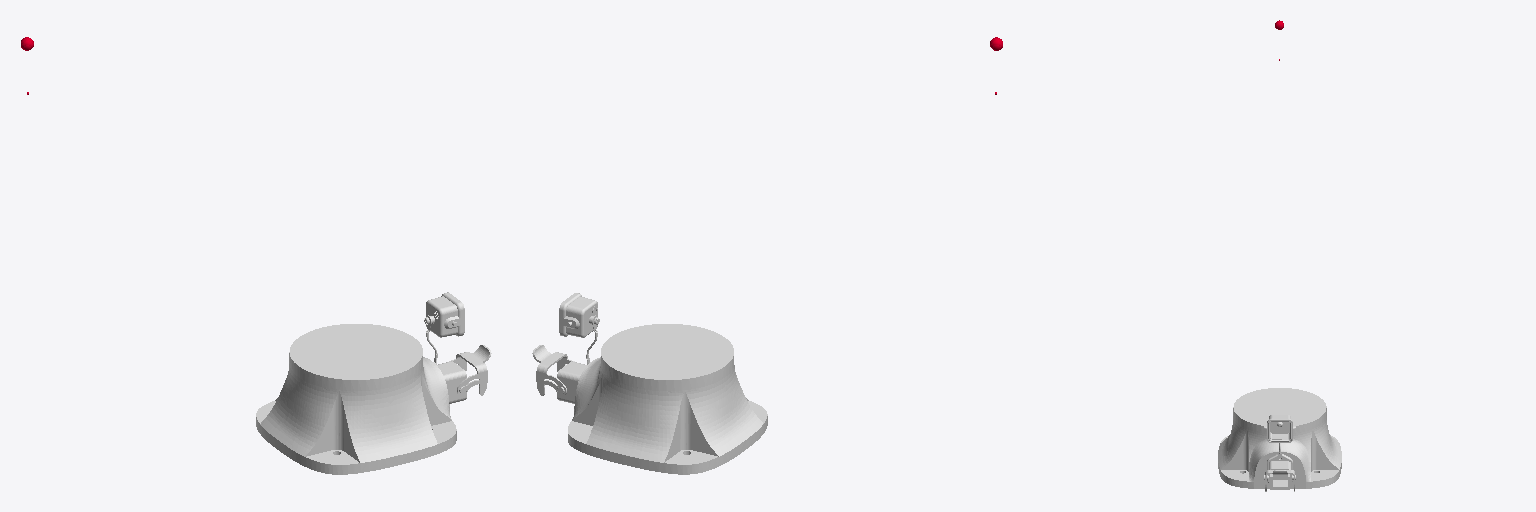
URDF robot description (mg400):
<?xml version="1.0" ?>
<robot name="mg400">
	<link name="world">
		<inertial>
			<origin rpy="0.00000 -0.00000 0.00000" xyz="0.00000 0.00000 0.00000"/>
			<mass value="0.00000"/>
			<inertia ixx="0.00000" ixy="0" ixz="0" iyy="0.00000" iyz="0" izz="0.00000"/>
		</inertial>
	</link>
	<link name="base_link">
		<inertial>
			<origin rpy="0.00000 -0.00000 0.00000" xyz="0.00060 -0.00000 0.05609"/>
			<mass value="3.62165"/>
			<inertia ixx="0.01587" ixy="0" ixz="0" iyy="0.01587" iyz="0" izz="0.02319"/>
		</inertial>
		<visual>
			<origin rpy="0.00000 -0.00000 0.00000" xyz="0.00000 0.00000 0.00000"/>
			<geometry>
				<mesh filename="../robot_arm_assets/mg400/meshes/base_link.STL" scale="1.00000 1.00000 1.00000"/>
			</geometry>
			<material name="mat_0">
				<color rgba="0.90000 0.90000 0.90000 1.00000" />
			</material>
		</visual>
		<collision>
			<origin rpy="0.00000 -0.00000 0.00000" xyz="0.00000 0.00000 0.00000"/>
			<geometry>
				<mesh filename="../robot_arm_assets/mg400/meshes/base_link.STL" scale="1.00000 1.00000 1.00000"/>
			</geometry>
		</collision>
	</link>
	<link name="link1">
		<inertial>
			<origin rpy="0.00000 -0.00000 0.00000" xyz="-0.00462 -0.00007 0.07099"/>
			<mass value="1.77056"/>
			<inertia ixx="0.00748" ixy="0" ixz="0" iyy="0.00775" iyz="0" izz="0.00787"/>
		</inertial>
		<visual>
			<origin rpy="0.00000 -0.00000 0.00000" xyz="0.00000 0.00000 0.00000"/>
			<geometry>
				<mesh filename="../robot_arm_assets/mg400/meshes/link1.STL" scale="1.00000 1.00000 1.00000"/>
			</geometry>
			<material name="mat_1">
				<color rgba="0.30000 0.30000 0.30000 1.00000" />
			</material>
		</visual>
		<collision>
			<origin rpy="0.00000 -0.00000 0.00000" xyz="0.00000 0.00000 0.00000"/>
			<geometry>
				<mesh filename="../robot_arm_assets/mg400/meshes/link1.STL" scale="1.00000 1.00000 1.00000"/>
			</geometry>
		</collision>
	</link>
	<link name="link2_1">
		<inertial>
			<origin rpy="0.00000 -0.00000 0.00000" xyz="-0.00322 0.03529 0.05961"/>
			<mass value="0.08661"/>
			<inertia ixx="0.00038" ixy="0" ixz="0" iyy="0.00035" iyz="0" izz="0.00006"/>
		</inertial>
		<visual>
			<origin rpy="0.00000 -0.00000 0.00000" xyz="0.00000 0.00000 0.00000"/>
			<geometry>
				<mesh filename="../robot_arm_assets/mg400/meshes/link2_1.STL" scale="1.00000 1.00000 1.00000"/>
			</geometry>
			<material name="mat_2">
				<color rgba="0.30000 0.30000 0.30000 1.00000" />
			</material>
		</visual>
		<collision>
			<origin rpy="0.00000 -0.00000 0.00000" xyz="0.00000 0.00000 0.00000"/>
			<geometry>
				<mesh filename="../robot_arm_assets/mg400/meshes/link2_1.STL" scale="1.00000 1.00000 1.00000"/>
			</geometry>
		</collision>
	</link>
	<link name="link3_1">
		<inertial>
			<origin rpy="0.00000 -0.00000 0.00000" xyz="0.08217 0.00011 -0.00334"/>
			<mass value="0.03752"/>
			<inertia ixx="0.00001" ixy="0" ixz="0" iyy="0.00018" iyz="0" izz="0.00018"/>
		</inertial>
		<visual>
			<origin rpy="0.00000 -0.00000 0.00000" xyz="0.00000 0.00000 0.00000"/>
			<geometry>
				<mesh filename="../robot_arm_assets/mg400/meshes/link3_1.STL" scale="1.00000 1.00000 1.00000"/>
			</geometry>
			<material name="mat_3">
				<color rgba="0.30000 0.30000 0.30000 1.00000" />
			</material>
		</visual>
		<collision>
			<origin rpy="0.00000 -0.00000 0.00000" xyz="0.00000 0.00000 0.00000"/>
			<geometry>
				<mesh filename="../robot_arm_assets/mg400/meshes/link3_1.STL" scale="1.00000 1.00000 1.00000"/>
			</geometry>
		</collision>
	</link>
	<link name="link4_1">
		<inertial>
			<origin rpy="0.00000 -0.00000 0.00000" xyz="0.03879 0.01708 -0.00246"/>
			<mass value="0.06290"/>
			<inertia ixx="0.00006" ixy="0" ixz="0" iyy="0.00010" iyz="0" izz="0.00007"/>
		</inertial>
		<visual>
			<origin rpy="0.00000 -0.00000 0.00000" xyz="0.00000 0.00000 0.00000"/>
			<geometry>
				<mesh filename="../robot_arm_assets/mg400/meshes/link4_1.STL" scale="1.00000 1.00000 1.00000"/>
			</geometry>
			<material name="mat_4">
				<color rgba="0.90000 0.90000 0.90000 1.00000" />
			</material>
		</visual>
		<collision>
			<origin rpy="0.00000 -0.00000 0.00000" xyz="0.00000 0.00000 0.00000"/>
			<geometry>
				<mesh filename="../robot_arm_assets/mg400/meshes/link4_1.STL" scale="1.00000 1.00000 1.00000"/>
			</geometry>
		</collision>
	</link>
	<link name="link5">
		<inertial>
			<origin rpy="0.00000 -0.00000 0.00000" xyz="0.00000 0.00000 -0.03497"/>
			<mass value="0.09653"/>
			<inertia ixx="0.00008" ixy="0" ixz="0" iyy="0.00008" iyz="0" izz="0.00003"/>
		</inertial>
		<visual>
			<origin rpy="0.00000 -0.00000 0.00000" xyz="0.00000 0.00000 0.00000"/>
			<geometry>
				<mesh filename="../robot_arm_assets/mg400/meshes/link5.STL" scale="1.00000 1.00000 1.00000"/>
			</geometry>
			<material name="mat_5">
				<color rgba="0.90000 0.90000 0.90000 1.00000" />
			</material>
		</visual>
		<collision>
			<origin rpy="0.00000 -0.00000 0.00000" xyz="0.00000 0.00000 0.00000"/>
			<geometry>
				<mesh filename="../robot_arm_assets/mg400/meshes/link5.STL" scale="1.00000 1.00000 1.00000"/>
			</geometry>
		</collision>
	</link>
	<link name="ee_link">
		<inertial>
			<origin rpy="-3.14000 -0.00000 1.57000" xyz="0.00000 0.00000 0.00000"/>
			<mass value="0.00000"/>
			<inertia ixx="0.00000" ixy="0" ixz="0" iyy="0.00000" iyz="0" izz="0.00000"/>
		</inertial>
		<visual>
			<origin rpy="0.00000 -0.00000 0.00000" xyz="0.00000 0.00000 0.00000"/>
			<geometry>
				<sphere radius="0.00500"/>
			</geometry>
			<material name="mat_6">
				<color rgba="0.90000 0.00000 0.20000 1.00000" />
			</material>
		</visual>
		<collision>
			<origin rpy="0.00000 -0.00000 0.00000" xyz="0.00000 0.00000 0.00000"/>
			<geometry>
				<sphere radius="0.00100"/>
			</geometry>
		</collision>
	</link>
	<link name="link2_2">
		<inertial>
			<origin rpy="0.00000 -0.00000 0.00000" xyz="-0.02011 0.03050 0.07363"/>
			<mass value="0.06625"/>
			<inertia ixx="0.00025" ixy="0" ixz="0" iyy="0.00024" iyz="0" izz="0.00004"/>
		</inertial>
		<visual>
			<origin rpy="0.00000 -0.00000 0.00000" xyz="0.00000 0.00000 0.00000"/>
			<geometry>
				<mesh filename="../robot_arm_assets/mg400/meshes/link2_2.STL" scale="1.00000 1.00000 1.00000"/>
			</geometry>
			<material name="mat_7">
				<color rgba="0.90000 0.90000 0.90000 1.00000" />
			</material>
		</visual>
		<collision>
			<origin rpy="0.00000 -0.00000 0.00000" xyz="0.00000 0.00000 0.00000"/>
			<geometry>
				<mesh filename="../robot_arm_assets/mg400/meshes/link2_2.STL" scale="1.00000 1.00000 1.00000"/>
			</geometry>
		</collision>
	</link>
	<link name="link3_2">
		<inertial>
			<origin rpy="0.00000 -0.00000 0.00000" xyz="0.03386 0.02402 0.00452"/>
			<mass value="0.03667"/>
			<inertia ixx="0.00002" ixy="0" ixz="0" iyy="0.00004" iyz="0" izz="0.00004"/>
		</inertial>
		<visual>
			<origin rpy="0.00000 -0.00000 0.00000" xyz="0.00000 0.00000 0.00000"/>
			<geometry>
				<mesh filename="../robot_arm_assets/mg400/meshes/link3_2.STL" scale="1.00000 1.00000 1.00000"/>
			</geometry>
			<material name="mat_8">
				<color rgba="0.30000 0.30000 0.30000 1.00000" />
			</material>
		</visual>
		<collision>
			<origin rpy="0.00000 -0.00000 0.00000" xyz="0.00000 0.00000 0.00000"/>
			<geometry>
				<mesh filename="../robot_arm_assets/mg400/meshes/link3_2.STL" scale="1.00000 1.00000 1.00000"/>
			</geometry>
		</collision>
	</link>
	<link name="link4_2">
		<inertial>
			<origin rpy="0.00000 -0.00000 0.00000" xyz="0.08764 0.02350 0.00831"/>
			<mass value="0.04536"/>
			<inertia ixx="0.00002" ixy="0" ixz="0" iyy="0.00016" iyz="0" izz="0.00016"/>
		</inertial>
		<visual>
			<origin rpy="0.00000 -0.00000 0.00000" xyz="0.00000 0.00000 0.00000"/>
			<geometry>
				<mesh filename="../robot_arm_assets/mg400/meshes/link4_2.STL" scale="1.00000 1.00000 1.00000"/>
			</geometry>
			<material name="mat_9">
				<color rgba="0.90000 0.90000 0.90000 1.00000" />
			</material>
		</visual>
		<collision>
			<origin rpy="0.00000 -0.00000 0.00000" xyz="0.00000 0.00000 0.00000"/>
			<geometry>
				<mesh filename="../robot_arm_assets/mg400/meshes/link4_2.STL" scale="1.00000 1.00000 1.00000"/>
			</geometry>
		</collision>
	</link>
	<link name="digit_body_link">
		<inertial>
			<origin rpy="0.00000 -0.00000 0.00000" xyz="0.00443 -0.01409 0.00000"/>
			<mass value="0.00778"/>
			<inertia ixx="0.00000" ixy="0" ixz="0" iyy="0.00000" iyz="0" izz="0.00000"/>
		</inertial>
		<visual>
			<origin rpy="0.00000 -0.00000 0.00000" xyz="0.00000 0.00000 0.03500"/>
			<geometry>
				<mesh filename="../sensor_assets/standard_digit/body/digit_body.stl" scale="1.00000 1.00000 1.00000"/>
			</geometry>
			<material name="mat_10">
				<color rgba="0.80000 0.80000 0.80000 1.00000" />
			</material>
		</visual>
		<collision>
			<origin rpy="0.00000 -0.00000 0.00000" xyz="0.00000 0.00000 0.03500"/>
			<geometry>
				<mesh filename="../sensor_assets/standard_digit/body/digit_body.stl" scale="1.00000 1.00000 1.00000"/>
			</geometry>
		</collision>
	</link>
	<link name="digit_tip_link">
		<inertial>
			<origin rpy="0.00000 -0.00000 0.00000" xyz="-0.00000 0.00554 -0.00576"/>
			<mass value="0.00130"/>
			<inertia ixx="0.00000" ixy="0" ixz="0" iyy="0.00000" iyz="0" izz="0.00000"/>
		</inertial>
		<visual>
			<origin rpy="0.00000 -0.00000 0.00000" xyz="0.00000 0.00000 -0.03500"/>
			<geometry>
				<mesh filename="../sensor_assets/standard_digit/tip/digit_skin.stl" scale="1.05000 1.05000 1.00000"/>
			</geometry>
			<material name="mat_11">
				<color rgba="0.00000 0.00000 0.00000 1.00000" />
			</material>
		</visual>
		<collision>
			<origin rpy="0.00000 -0.00000 0.00000" xyz="0.00000 0.00000 -0.03500"/>
			<geometry>
				<mesh filename="../sensor_assets/standard_digit/tip/digit_core.stl" scale="1.05000 1.05000 1.00000"/>
			</geometry>
		</collision>
	</link>
	<link name="tcp_link">
		<inertial>
			<origin rpy="0.00000 -0.00000 1.57000" xyz="0.00000 0.00000 0.00000"/>
			<mass value="0.00000"/>
			<inertia ixx="0.00000" ixy="0" ixz="0" iyy="0.00000" iyz="0" izz="0.00000"/>
		</inertial>
		<visual>
			<origin rpy="0.00000 -0.00000 0.00000" xyz="0.00000 0.00000 0.00000"/>
			<geometry>
				<sphere radius="0.00100"/>
			</geometry>
			<material name="mat_12">
				<color rgba="0.90000 0.00000 0.20000 0.50000" />
			</material>
		</visual>
	</link>
	<joint name="world_joint" type="fixed">
		<parent link="world"/>
		<child link="base_link"/>
		<dynamics damping="1.0" friction="0.0001"/>
		<origin rpy="0.00000 -0.00000 -3.14000" xyz="0.00000 0.00000 0.00000"/>
		<axis xyz="0.00000 0.00000 0.00000"/>
	</joint>
	<joint name="j1" type="revolute">
		<parent link="base_link"/>
		<child link="link1"/>
		<limit effort="0.00000" lower="-3.14000" upper="3.14000" velocity="0.00000"/>
		<dynamics damping="1.0" friction="0.0001"/>
		<origin rpy="0.00000 -0.00000 0.00000" xyz="-0.00500 0.00000 0.10900"/>
		<axis xyz="0.00000 0.00000 1.00000"/>
	</joint>
	<joint name="j2_1" type="revolute">
		<parent link="link1"/>
		<child link="link2_1"/>
		<limit effort="0.00000" lower="-3.14000" upper="3.14000" velocity="0.00000"/>
		<dynamics damping="1.0" friction="0.0001"/>
		<origin rpy="0.00000 -0.00000 0.00000" xyz="0.04350 -0.03577 0.11900"/>
		<axis xyz="0.00000 1.00000 0.00000"/>
	</joint>
	<joint name="j3_1" type="revolute">
		<parent link="link2_1"/>
		<child link="link3_1"/>
		<limit effort="0.00000" lower="-3.14000" upper="3.14000" velocity="0.00000"/>
		<dynamics damping="1.0" friction="0.0001"/>
		<origin rpy="0.00000 -0.00000 0.00000" xyz="-0.00105 0.03577 0.17500"/>
		<axis xyz="0.00000 1.00000 0.00000"/>
	</joint>
	<joint name="j4_1" type="revolute">
		<parent link="link3_1"/>
		<child link="link4_1"/>
		<limit effort="0.00000" lower="-3.14000" upper="3.14000" velocity="0.00000"/>
		<dynamics damping="1.0" friction="0.0001"/>
		<origin rpy="0.00000 -0.00000 0.00000" xyz="0.17497 -0.01700 0.00325"/>
		<axis xyz="0.00000 1.00000 0.00000"/>
	</joint>
	<joint name="j5" type="revolute">
		<parent link="link4_1"/>
		<child link="link5"/>
		<limit effort="0.00000" lower="-3.14000" upper="3.14000" velocity="0.00000"/>
		<dynamics damping="1.0" friction="0.0001"/>
		<origin rpy="0.00000 -0.00000 0.00000" xyz="0.06600 0.01700 0.03100"/>
		<axis xyz="-0.00001 0.00000 1.00000"/>
	</joint>
	<joint name="ee_joint" type="fixed">
		<parent link="link5"/>
		<child link="ee_link"/>
		<dynamics damping="1.0" friction="0.0001"/>
		<origin rpy="0.00000 -0.00000 0.00000" xyz="0.00000 0.00000 -0.06500"/>
		<axis xyz="0.00000 0.00000 0.00000"/>
	</joint>
	<joint name="j2_2" type="revolute">
		<parent link="link1"/>
		<child link="link2_2"/>
		<limit effort="0.00000" lower="-3.14000" upper="3.14000" velocity="0.00000"/>
		<dynamics damping="1.0" friction="0.0001"/>
		<origin rpy="0.00000 -0.00000 0.00000" xyz="0.00453 -0.03050 0.14150"/>
		<axis xyz="0.00000 1.00000 0.00000"/>
	</joint>
	<joint name="j3_2" type="revolute">
		<parent link="link2_2"/>
		<child link="link3_2"/>
		<limit effort="0.00000" lower="-3.14000" upper="3.14000" velocity="0.00000"/>
		<dynamics damping="1.0" friction="0.0001"/>
		<origin rpy="0.00000 -0.00000 0.00000" xyz="-0.00105 0.00650 0.17500"/>
		<axis xyz="0.00000 1.00000 0.00000"/>
	</joint>
	<joint name="j4_2" type="revolute">
		<parent link="link3_2"/>
		<child link="link4_2"/>
		<limit effort="0.00000" lower="-3.14000" upper="3.14000" velocity="0.00000"/>
		<dynamics damping="1.0" friction="0.0001"/>
		<origin rpy="0.00000 -0.00000 0.00000" xyz="0.06790 0.00050 0.01197"/>
		<axis xyz="0.00000 1.00000 0.00000"/>
	</joint>
	<joint name="joint_dummy1" type="fixed">
		<parent link="ee_link"/>
		<child link="digit_body_link"/>
		<dynamics damping="1.0" friction="0.0001"/>
		<origin rpy="-3.14159 0.00000 3.14159" xyz="0.00000 0.00000 0.00000"/>
		<axis xyz="0.00000 0.00000 1.00000"/>
	</joint>
	<joint name="digit_tip_to_body" type="fixed">
		<parent link="digit_body_link"/>
		<child link="digit_tip_link"/>
		<dynamics damping="1.0" friction="0.0001"/>
		<origin rpy="-3.14159 -0.00000 1.57080" xyz="-0.00152 -0.00001 -0.00415"/>
		<axis xyz="0.00000 0.00000 0.00000"/>
	</joint>
	<joint name="tcp_joint" type="fixed">
		<parent link="digit_body_link"/>
		<child link="tcp_link"/>
		<dynamics damping="1.0" friction="0.0001"/>
		<origin rpy="0.00000 -0.00000 0.00000" xyz="0.00070 0.00000 0.04000"/>
		<axis xyz="0.00000 0.00000 0.00000"/>
	</joint>
</robot>

--- Facts derived from the render (not from the file) ---
Views: 3 orthographic renders of the robot side by side, from view 1: azimuth 30°, elevation 25°; view 2: azimuth 150°, elevation 25°; view 3: azimuth 270°, elevation 25°.
Model mg400 with 14 links and 13 joints (8 revolute, 5 fixed), rooted at world, posed all joints at 0.
Links seen in each view (by area): view 1: base_link; view 2: base_link; view 3: base_link.
Boxes of the visible links, box(x1,y1,x2,y2) form: base_link: box(256, 292, 491, 474); base_link: box(532, 293, 767, 474); base_link: box(1218, 388, 1341, 491).
Size in the robot's own frame: 0.3937 by 0.13 by 0.3837 metres.
1 mesh visuals loaded from 11 distinct referenced files (1 binary STL); not drawn: 10 (reference not matched to a file when rendering).